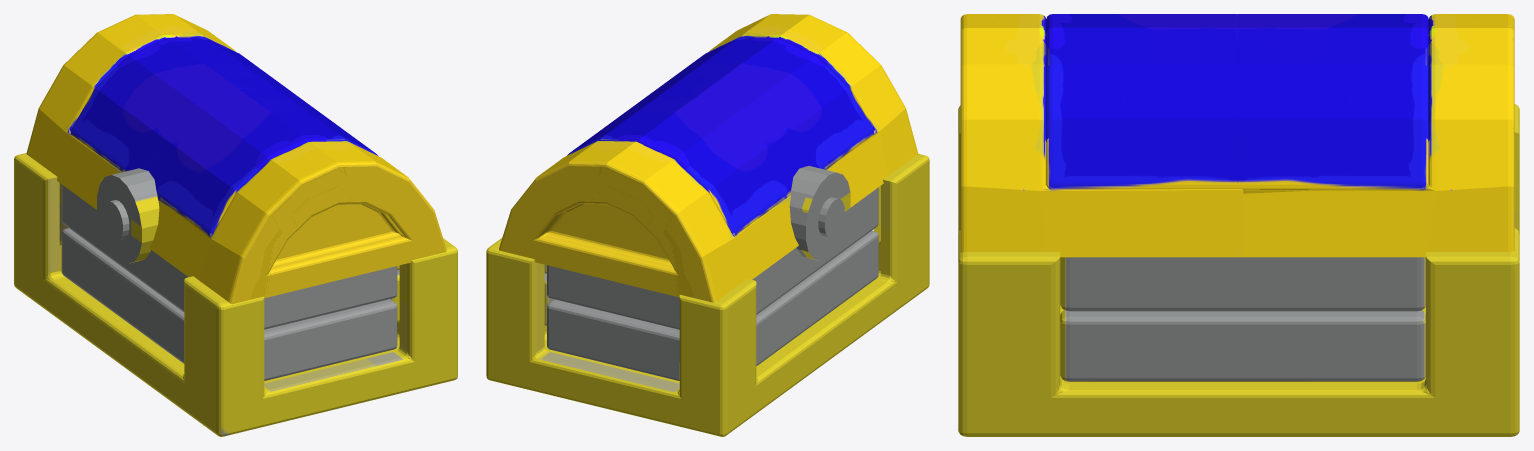
File: chest.fbx
3 renders of one model, left to right at view 1: azimuth 30°, elevation 25°; view 2: azimuth 150°, elevation 25°; view 3: azimuth 270°, elevation 25°, orthographic. The views are drawn at different scales.
Parts seen in each view (by area): view 1: Cylinder, Cube, Cube.001, Cylinder.001; view 2: Cylinder, Cube, Cube.001, Cylinder.001; view 3: Cylinder, Cube, Cube.001.
Boxes of the visible parts, bbox=[...] form: Cylinder: bbox=[26, 14, 446, 304]; Cube: bbox=[14, 153, 457, 436]; Cube.001: bbox=[61, 184, 399, 380]; Cylinder.001: bbox=[97, 168, 159, 263]; Cylinder: bbox=[499, 14, 918, 302]; Cube: bbox=[486, 154, 929, 436]; Cube.001: bbox=[544, 187, 878, 381]; Cylinder.001: bbox=[789, 166, 850, 261]; Cylinder: bbox=[960, 14, 1514, 257]; Cube: bbox=[958, 104, 1519, 436]; Cube.001: bbox=[1060, 257, 1425, 381].
Size of the model in its own units: 186 by 179 by 274.
Materials: 4 (4 with a texture image).
